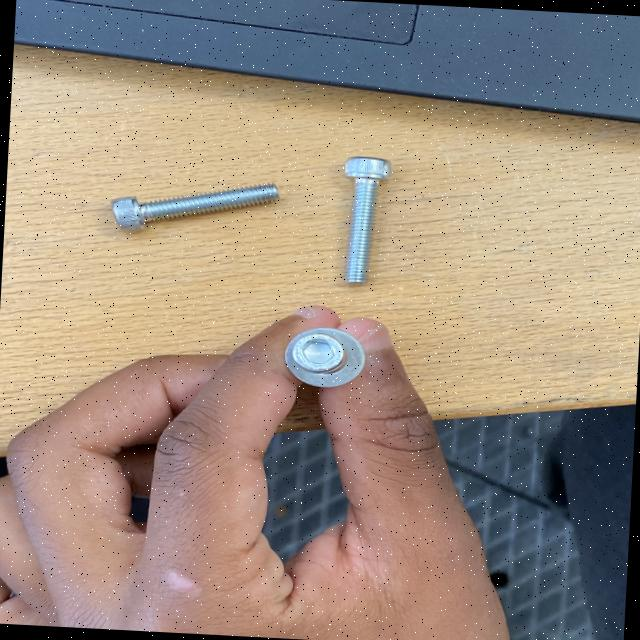Hex Socket Allen: (290, 332, 346, 373)
